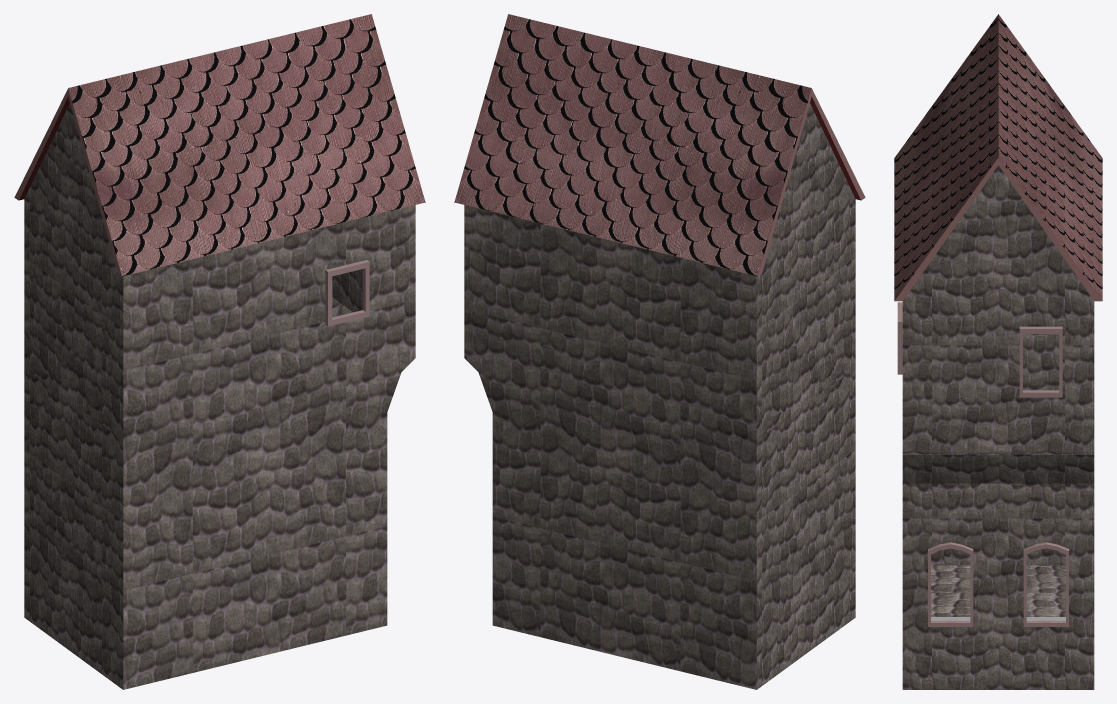
File: Building 4.fbx
3 renders of one model, left to right at view 1: azimuth 30°, elevation 25°; view 2: azimuth 150°, elevation 25°; view 3: azimuth 270°, elevation 25°, orthographic. The views are drawn at different scales.
Visible parts, largest first — view 1: pCube1; view 2: pCube1; view 3: pCube1.
Part boxes in pixels (<box>): pCube1: <box>14,14,425,689</box>; pCube1: <box>454,14,865,689</box>; pCube1: <box>894,14,1102,689</box>.
Bounding box in the file's own units: 15.82 × 28.24 × 9.72.
